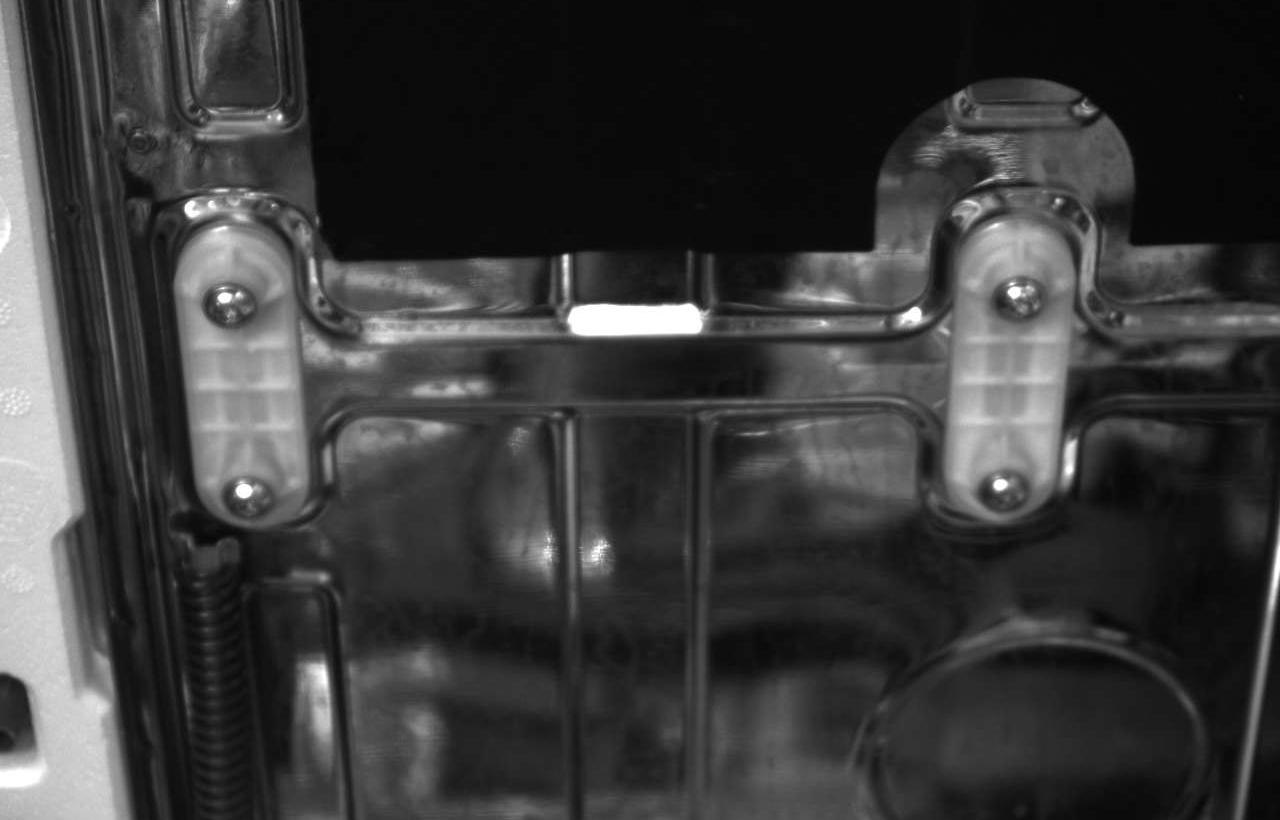vida-ok: (189, 266, 276, 343), (987, 249, 1075, 322), (207, 472, 287, 537), (977, 450, 1052, 508)
